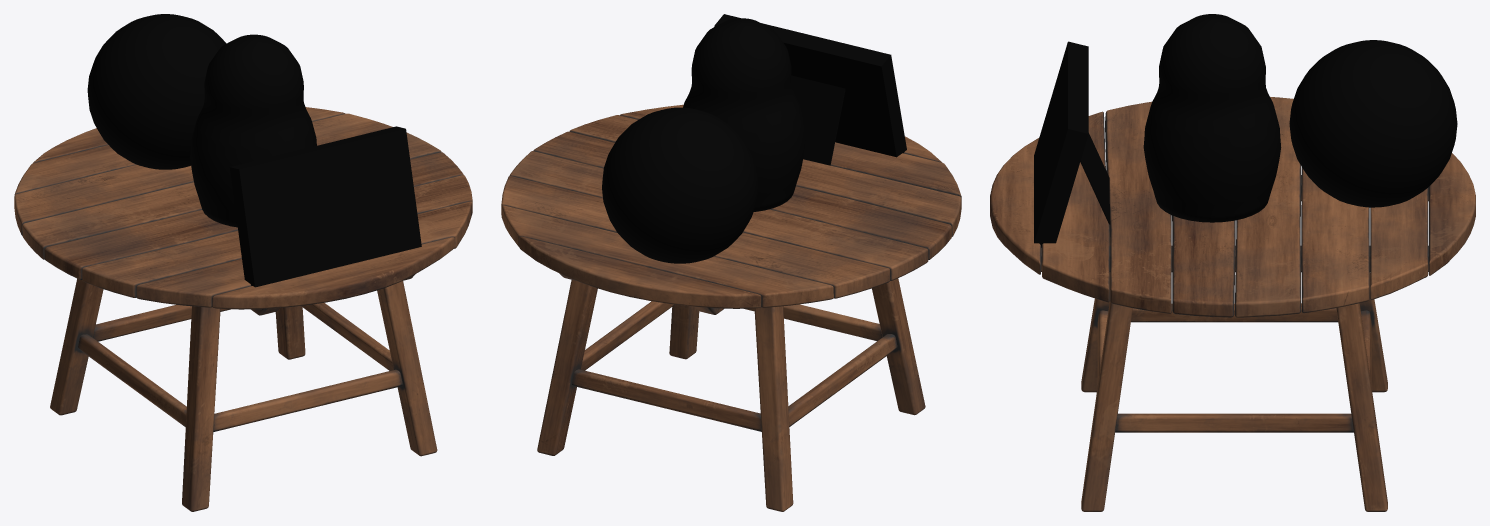
File: shad_all.glb
The picture shows the model from 3 angles, left to right: view 1: azimuth 30°, elevation 25°; view 2: azimuth 150°, elevation 25°; view 3: azimuth 270°, elevation 25°; orthographic projection. The views are drawn at different scales.
Visible parts, largest first — view 1: Table_Wood_textures.SP_0.001, Cube, Sphere.002, Circle; view 2: Table_Wood_textures.SP_0.001, Sphere.002, Circle, Cube; view 3: Table_Wood_textures.SP_0.001, Circle, Sphere.002, Cube.
Part boxes in pixels (x1,y1,x2,y2): Table_Wood_textures.SP_0.001: (14,107,472,511); Cube: (229,126,421,287); Sphere.002: (87,14,226,169); Circle: (190,34,316,227); Table_Wood_textures.SP_0.001: (501,104,961,511); Sphere.002: (602,107,758,263); Circle: (683,18,805,211); Cube: (714,14,906,165); Table_Wood_textures.SP_0.001: (990,97,1475,511); Circle: (1143,14,1281,222); Sphere.002: (1289,40,1457,207); Cube: (1034,41,1110,247).
Bounding box in the file's own units: 2 × 1.92 × 1.97.
4 materials, 1 textured.
